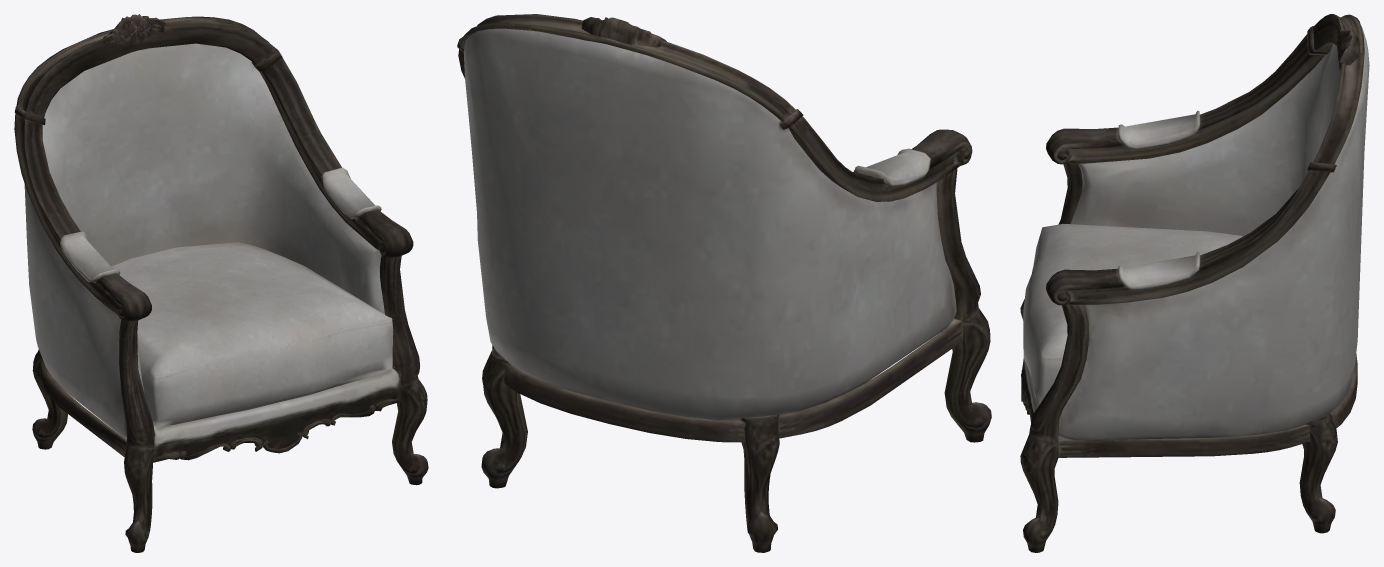
The model's file is armchair.glb.
The picture shows the model from 3 angles, left to right: view 1: azimuth 30°, elevation 25°; view 2: azimuth 150°, elevation 25°; view 3: azimuth 270°, elevation 25°; orthographic projection. The views are drawn at different scales.
Visible parts, largest first — view 1: ArmChair_01; view 2: ArmChair_01; view 3: ArmChair_01.
Part boxes in pixels (x1,y1,x2,y2): ArmChair_01: (14,14,428,552); ArmChair_01: (457,14,991,552); ArmChair_01: (1020,14,1369,552).
Size of the model in its own units: 0.8483 by 1.06 by 0.7658.
1 material, 1 textured.
